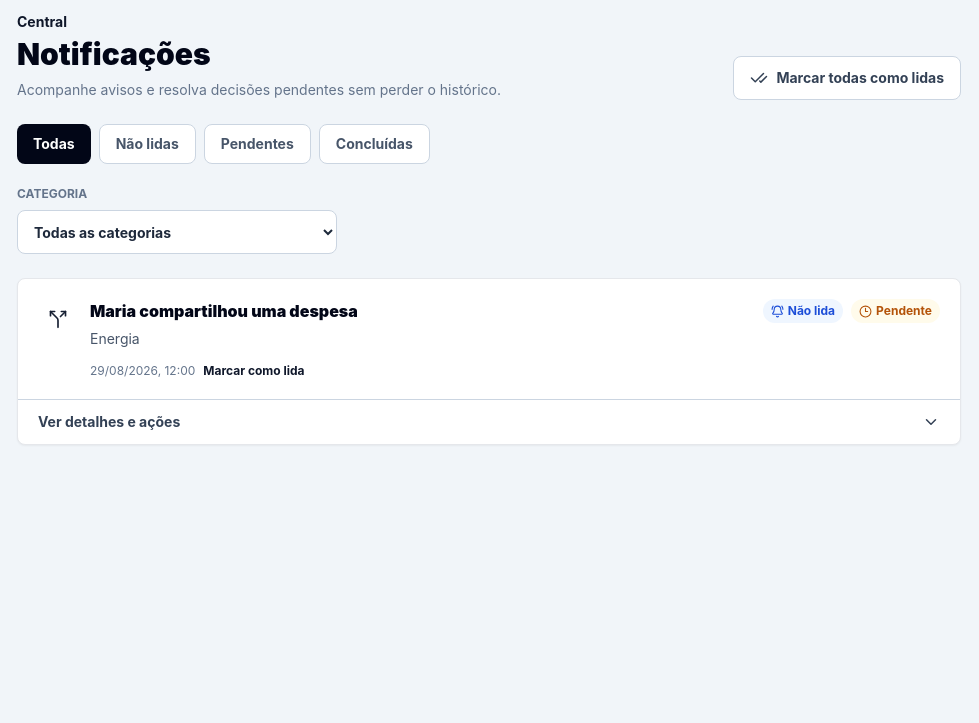
NotificationsPage › aceita uma divisão diretamente no card expandido
Click the button "Ver detalhes e ações" at (109, 422), box [18, 400, 960, 444]
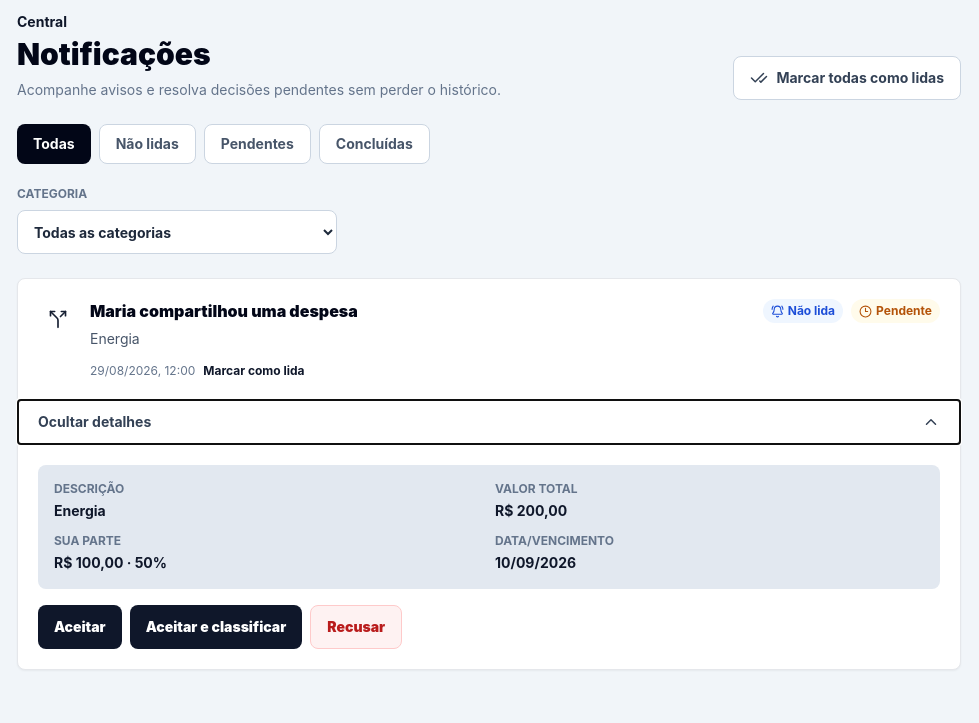
Expected: the text "R$ 200,00" is shown, [495, 502, 567, 519]
Click the button "Aceitar" at (80, 627), box [38, 605, 122, 649]
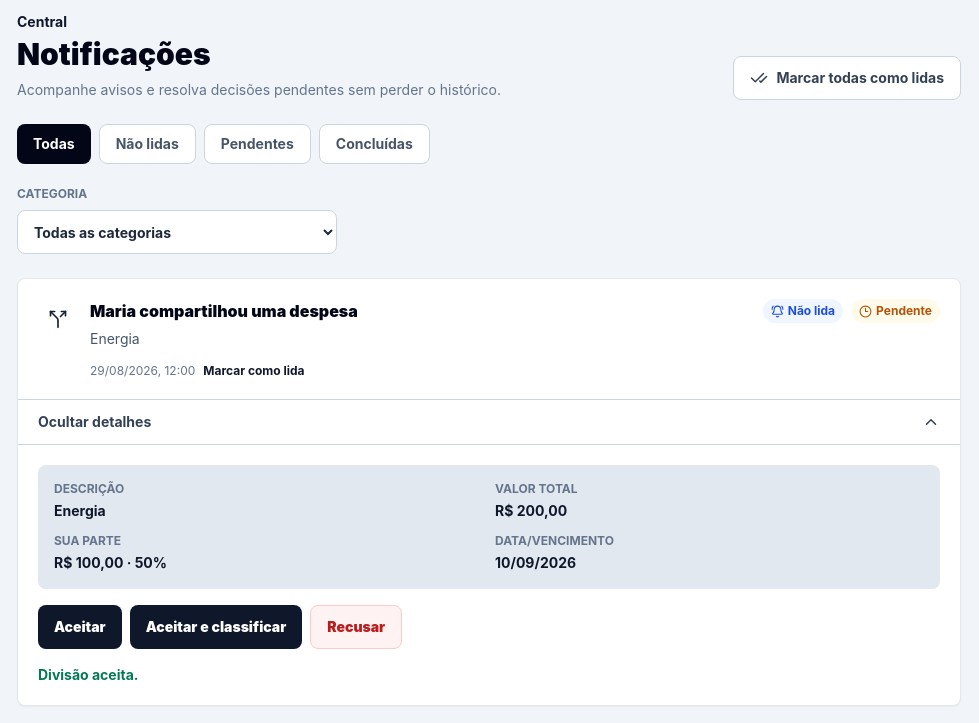
Expected: the text "Divisão aceita." is shown, [38, 666, 138, 683]
